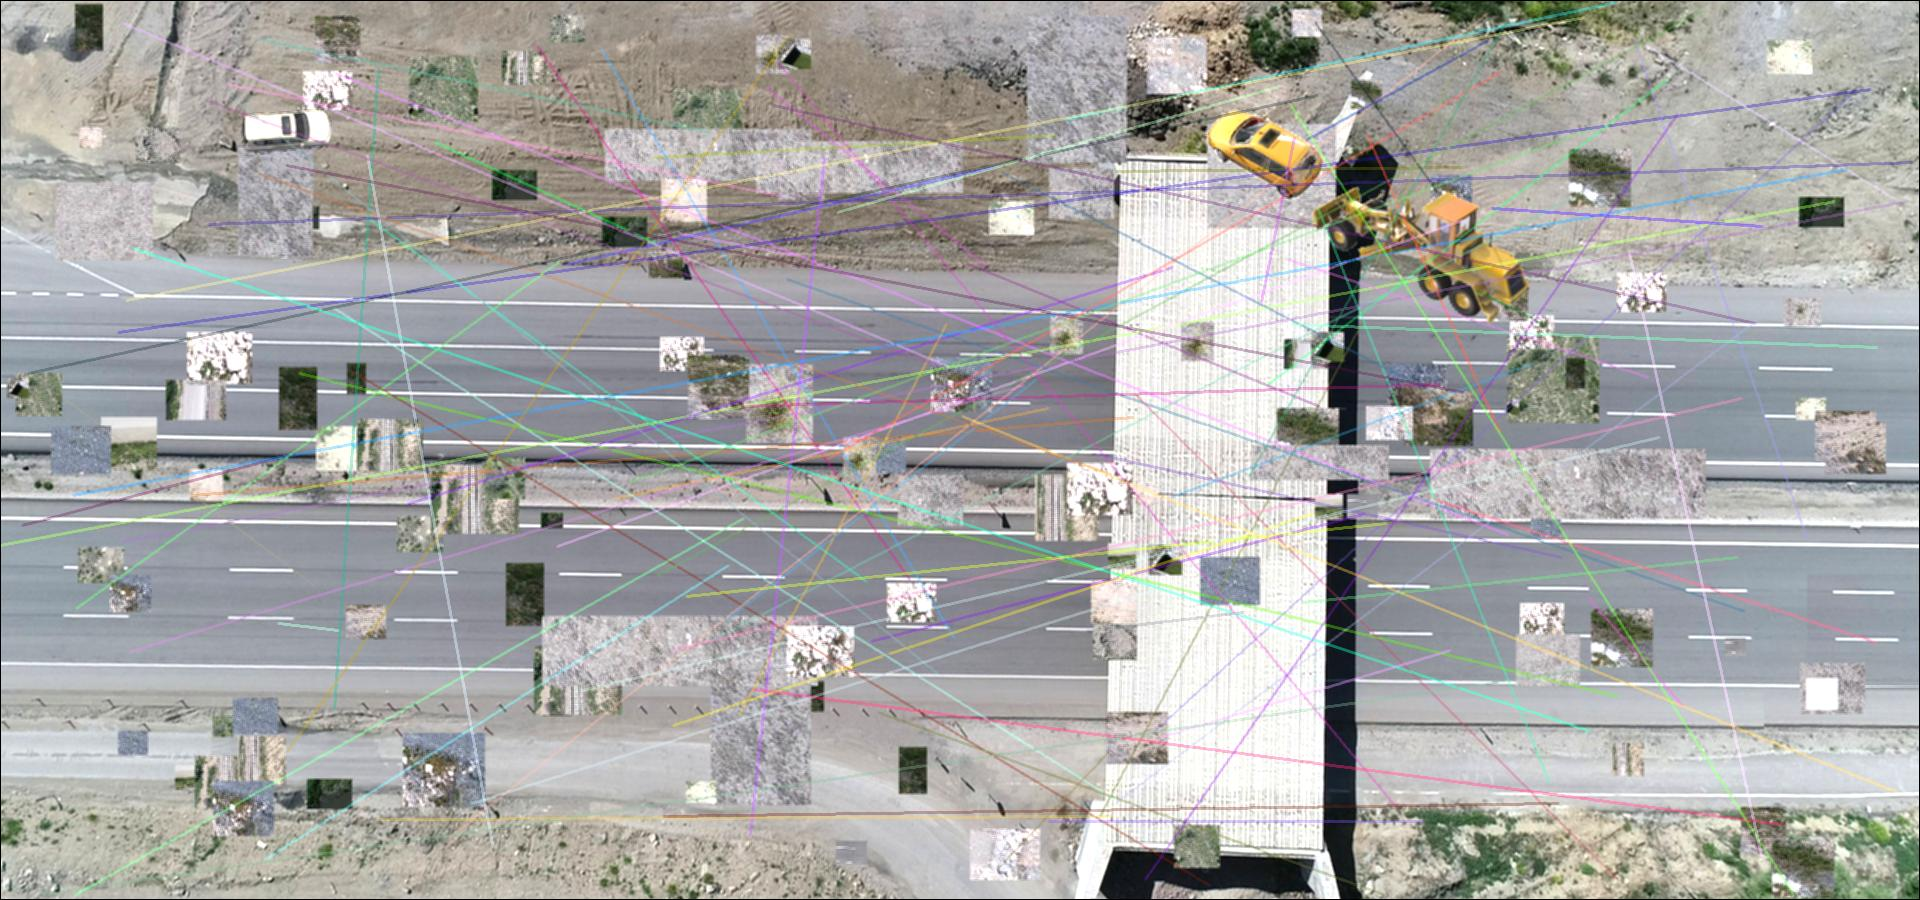arac: (1308, 180, 1539, 326), (1205, 105, 1322, 200), (241, 107, 334, 154)
